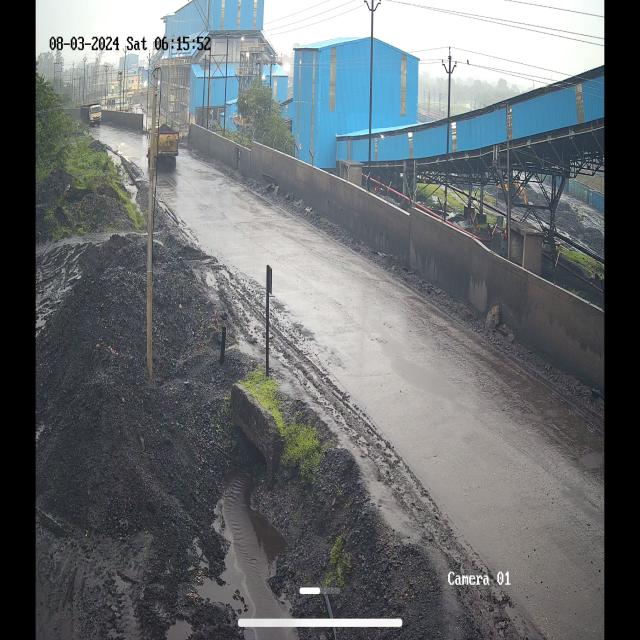dump_truck: (146, 114, 179, 176), (82, 96, 103, 131)
